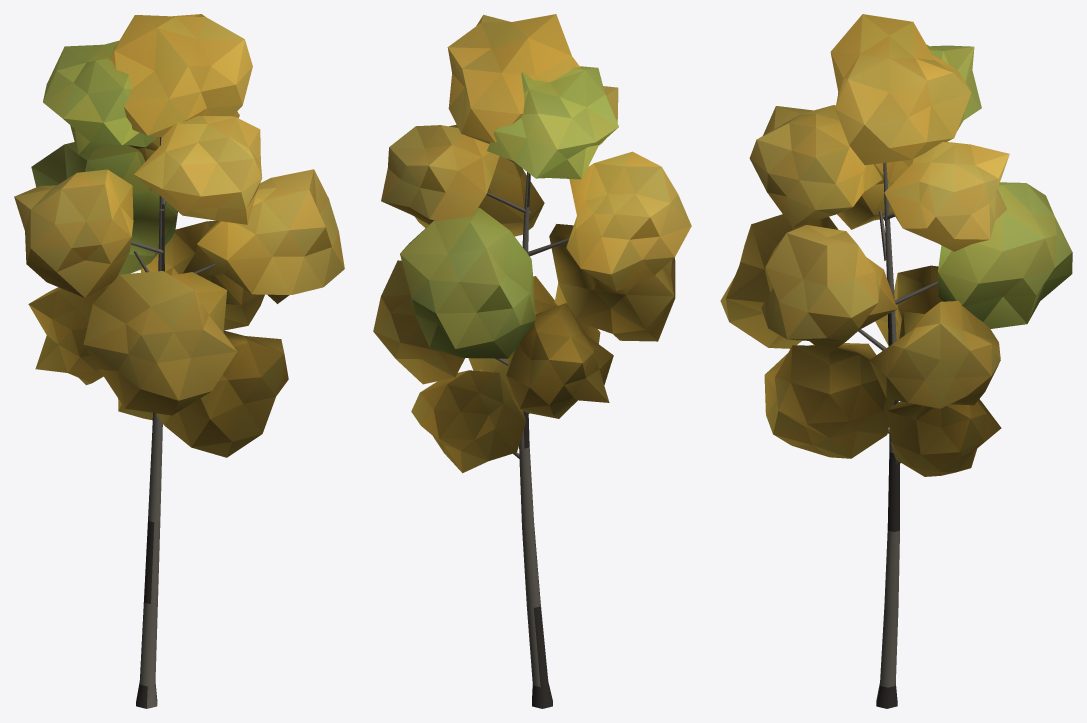
File: birch.glb
The picture shows the model from 3 angles, left to right: view 1: azimuth 30°, elevation 25°; view 2: azimuth 150°, elevation 25°; view 3: azimuth 270°, elevation 25°; orthographic projection.
Visible parts, largest first — view 1: birch; view 2: birch; view 3: birch.
Boxes of the visible parts, x1,y1,x2,y2 form: birch: (14, 14, 344, 708); birch: (373, 14, 691, 708); birch: (720, 14, 1072, 708).
Bounding box in the file's own units: 5.33 × 11.73 × 5.43.
